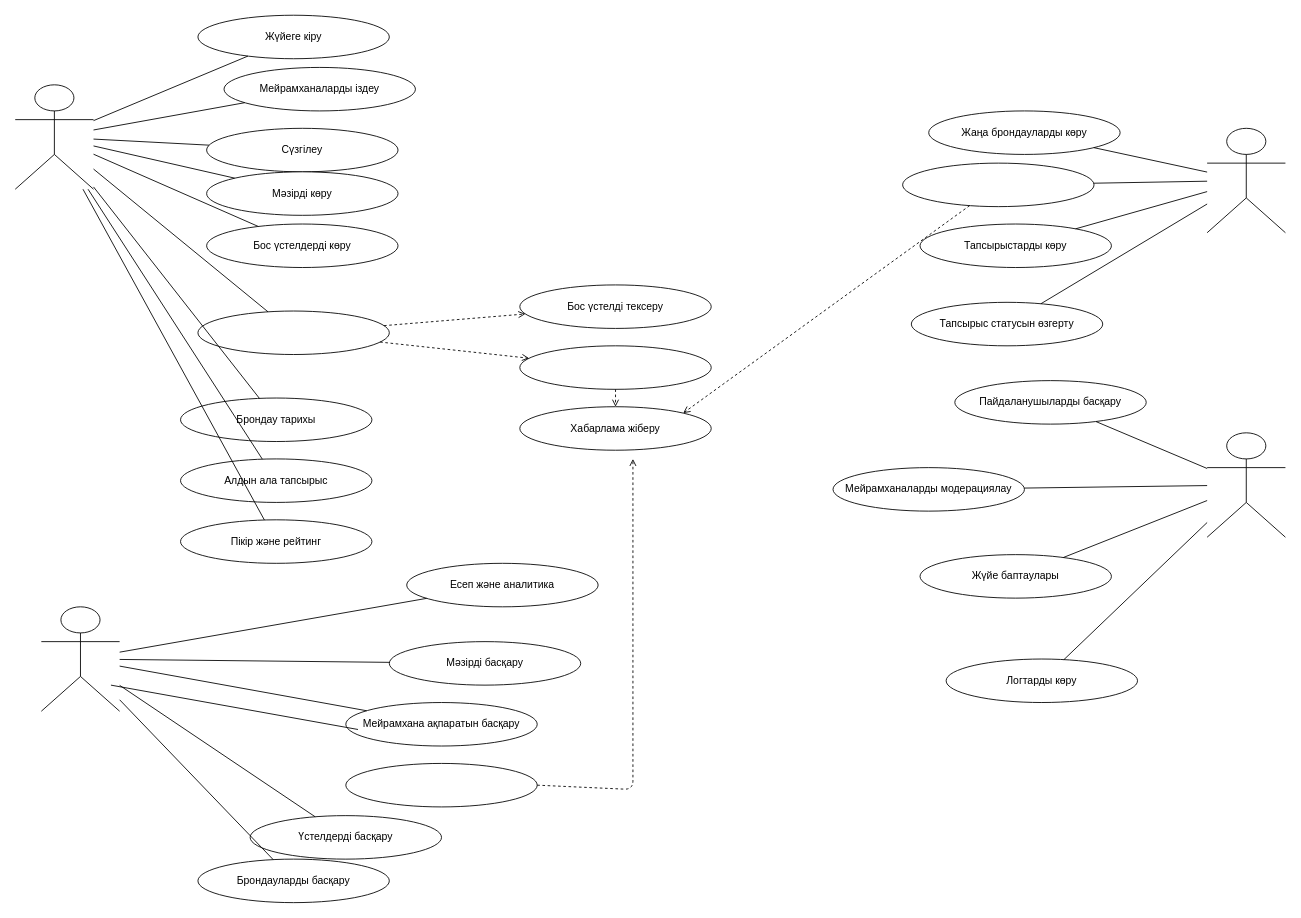
The diagram is 1301 pixels wide and 918 high, and some of its shapes have lost their labels. Each missing label, with the centre of its shape:
"Брондау статусын өзгерту" belongs at point (998, 184).
"Брондауды тіркеу" belongs at point (615, 367).
"Бронь мәртебесін өзгерту" belongs at point (441, 785).
"Даяшы" belongs at point (1245, 180).
"Жүйе әкімшісі" belongs at point (1245, 484).
"Клиент" belongs at point (54, 136).
"Мейрамхана менеджері" belongs at point (80, 658).
"Онлайн брондау" belongs at point (293, 332).
